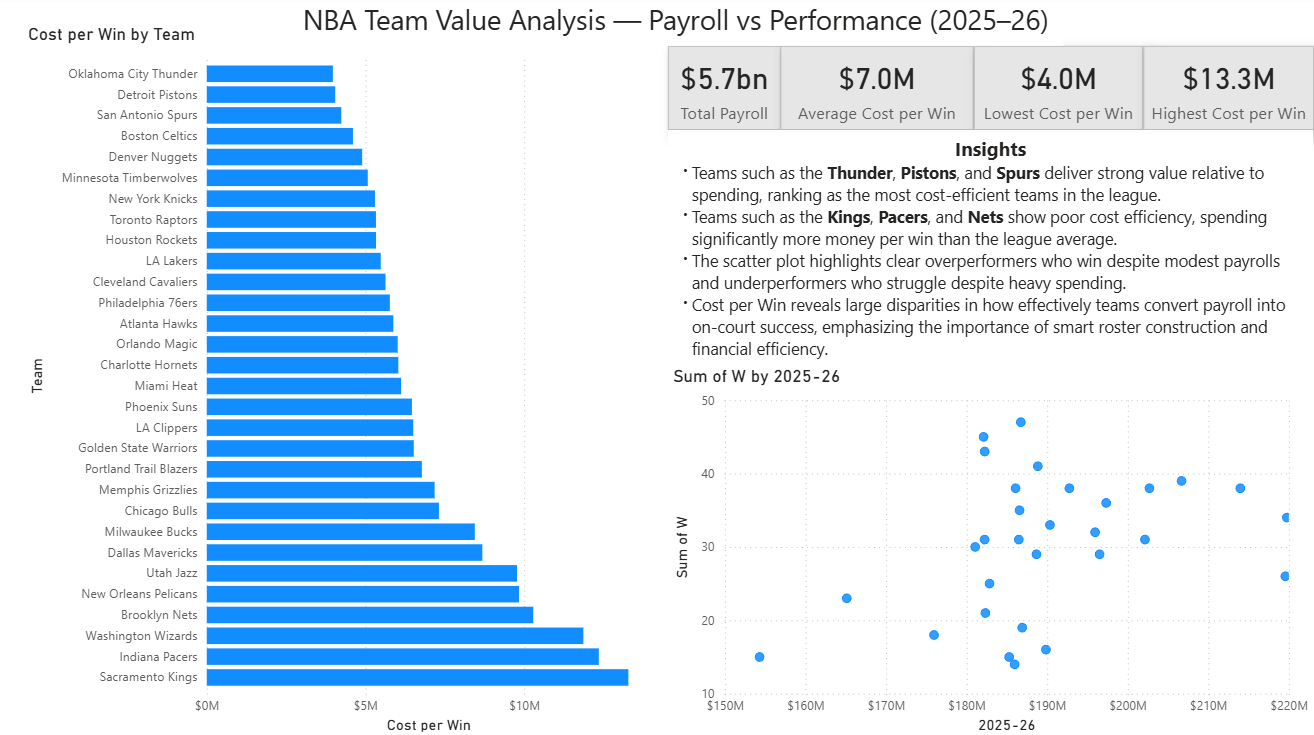

This screenshot's page, from the dashboard's own definition file:
{"tool":"powerbi","page":{"name":"Page 1","canvas":[1280,720],"ordinal":0},"visuals":[{"type":"clusteredBarChart","fields":{"Y":["TeamPayroll.Average Cost per Win"],"Category":["TeamStats.Team"]},"box":[26.4,28.3,630.2,692.5],"z":0},{"type":"scatterChart","fields":{"Y":["Sum(TeamStats.W)"],"X":["TeamPayroll.2025-26"]},"box":[652.7,359.5,626.1,361.1],"z":1000},{"type":"card","fields":{"Values":["TeamPayroll.Total Payroll"]},"box":[652.7,49.7,109.3,81.2],"z":2000},{"type":"card","fields":{"Values":["TeamPayroll.Average Cost per Win"]},"box":[762,49.7,187.2,81.2],"z":3000},{"type":"card","fields":{"Values":["TeamPayroll.Lowest Cost per Win"]},"box":[949.2,49.7,164,81.2],"z":4000},{"type":"card","fields":{"Values":["TeamPayroll.Highest Cost per Win"]},"box":[1113.2,49.7,165.6,81.2],"z":5000},{"type":"textbox","box":[292.7,0,743.6,49.1],"z":6000},{"type":"textbox","box":[652.7,130.9,626.1,228.6],"z":7000}]}

Visuals, with their boxes in screenshot pixels (x1, y1, x2, y2), scaled from the page's 1280x720 canvas onto the 1314x735 screenshot:
clusteredBarChart - TeamPayroll.Average Cost per Win x TeamStats.Team: Rect(27, 29, 674, 734)
scatterChart - Sum(TeamStats.W) x TeamPayroll.2025-26: Rect(670, 367, 1313, 734)
card - TeamPayroll.Total Payroll: Rect(670, 51, 782, 134)
card - TeamPayroll.Average Cost per Win: Rect(782, 51, 974, 134)
card - TeamPayroll.Lowest Cost per Win: Rect(974, 51, 1143, 134)
card - TeamPayroll.Highest Cost per Win: Rect(1143, 51, 1313, 134)
textbox: Rect(300, 0, 1064, 50)
textbox: Rect(670, 134, 1313, 367)
